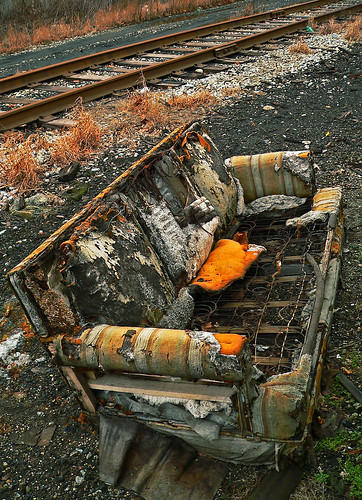couch: (31, 121, 353, 477)
train track: (1, 1, 343, 176)
